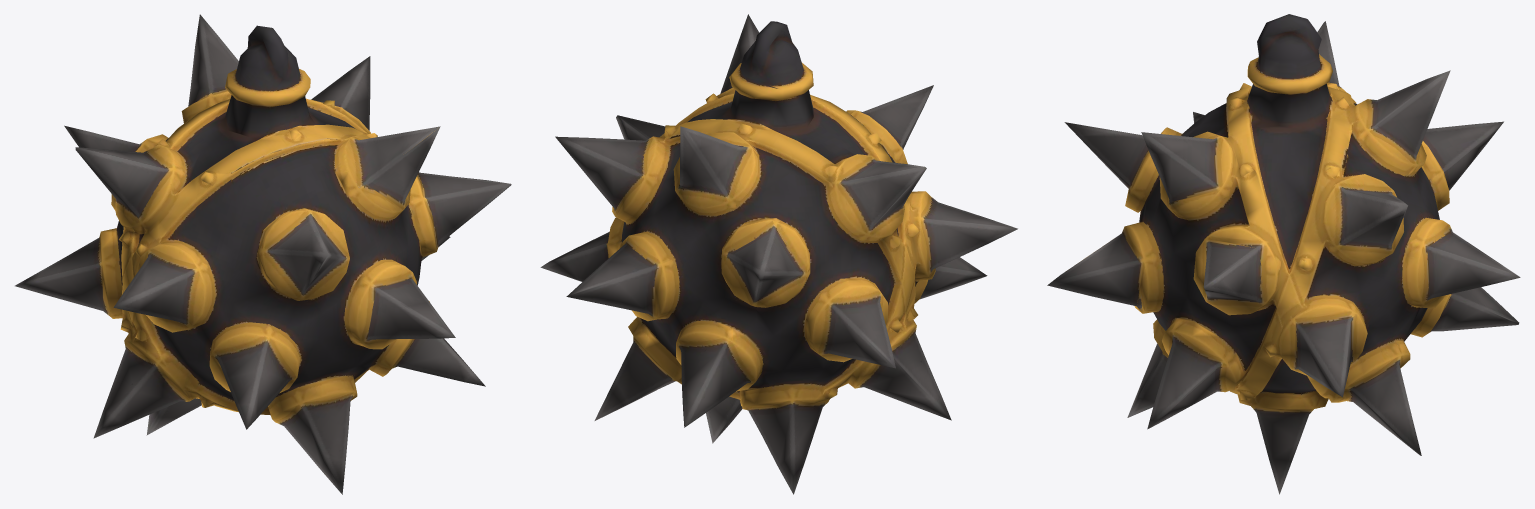
The model's file is boss_varkhul_ball.glb.
3 views of the same model, side by side, from view 1: azimuth 30°, elevation 25°; view 2: azimuth 150°, elevation 25°; view 3: azimuth 270°, elevation 25° (orthographic).
Parts seen in each view (by area): view 1: boss_varkhul_ball; view 2: boss_varkhul_ball; view 3: boss_varkhul_ball.
Part boxes in pixels (x1,y1,x2,y2): boss_varkhul_ball: (15, 14, 511, 494); boss_varkhul_ball: (540, 14, 1017, 494); boss_varkhul_ball: (1047, 14, 1520, 494).
Bounding box in the file's own units: 0.5311 × 0.5516 × 0.5292.
1 material, 1 textured.
